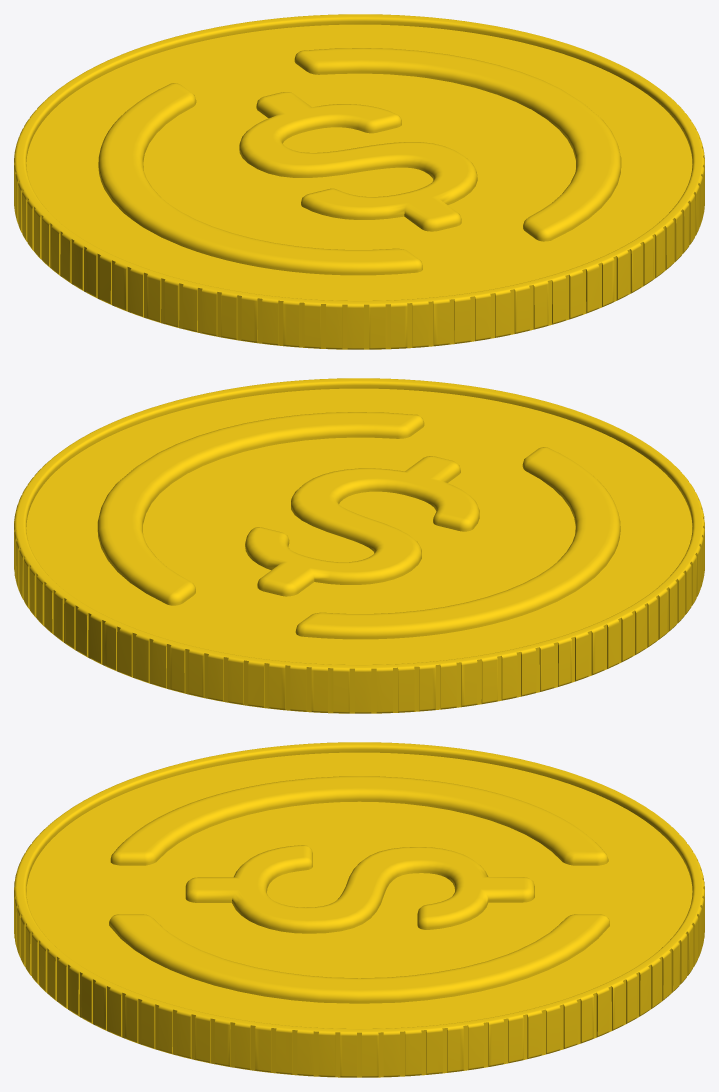
File: Project Name (1).glb
The picture shows the model from 3 angles, top to bottom: view 1: azimuth 30°, elevation 25°; view 2: azimuth 150°, elevation 25°; view 3: azimuth 270°, elevation 25°; orthographic projection.
Parts seen in each view (by area): view 1: Buffer Layer (×2); view 2: Buffer Layer (×2); view 3: Buffer Layer (×2).
Boxes of the visible parts, x1,y1,x2,y2 form: Buffer Layer (×2): [14, 14, 704, 349]; Buffer Layer (×2): [14, 378, 704, 713]; Buffer Layer (×2): [14, 742, 704, 1077].
Size of the model in its own units: 0.0491 by 0.0041 by 0.0491.
